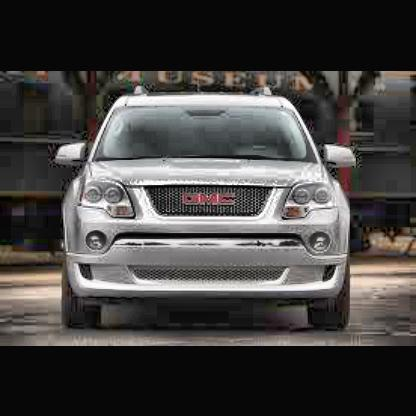GMC Acadia SUV 2012: (48, 88, 375, 341)
